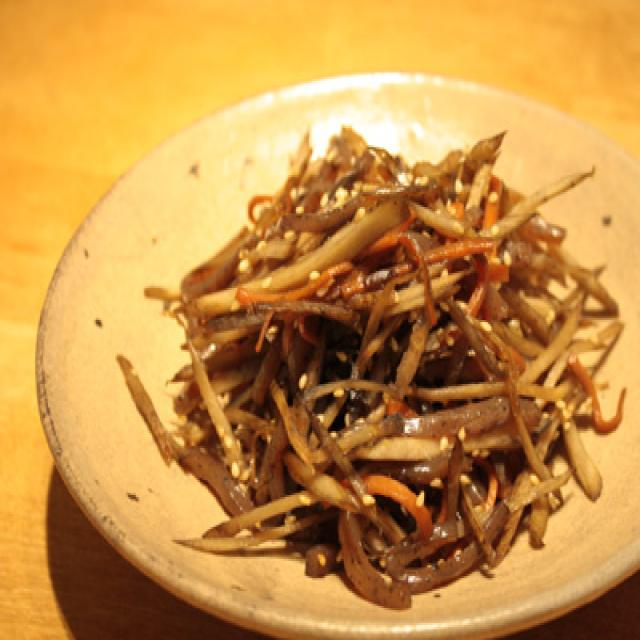蔬菜料理: (38, 90, 629, 580)
